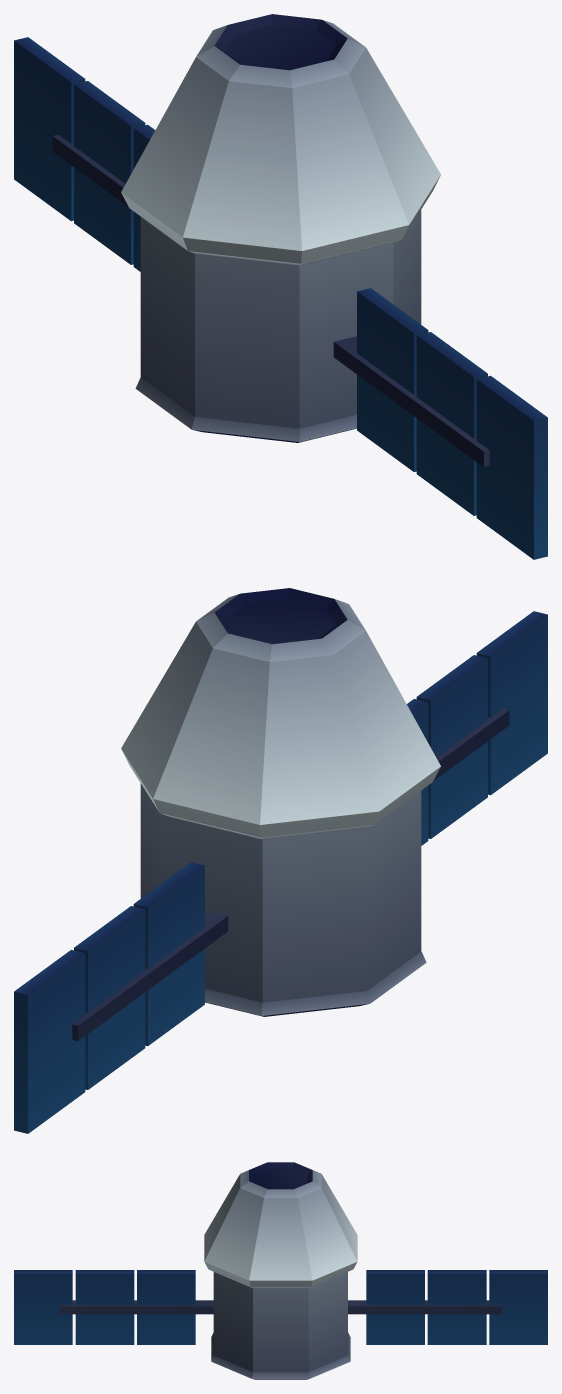
The model's file is satelite1.fbx.
3 views of the same model, one above another, from view 1: azimuth 30°, elevation 25°; view 2: azimuth 150°, elevation 25°; view 3: azimuth 270°, elevation 25° (orthographic). The views are drawn at different scales.
Parts seen in each view (by area): view 1: Cylinder, Cube.007, Cube.003, Cube.008, Cube.006, Cube.001, Cube.005, Cube.004, Cube.002; view 2: Cylinder, Cube.003, Cube.007, Cube.001, Cube.002, Cube.008, Cube.004, Cube.005, Cube.006; view 3: Cylinder, Cube.003, Cube.007, Cube.001, Cube.008, Cube.002, Cube.006, Cube.005, Cube.004.
Boxes of the visible parts, x1=… form: Cylinder: x1=121, y1=14, x2=440, y2=442; Cube.007: x1=476, y1=375, x2=547, y2=559; Cube.003: x1=14, y1=37, x2=85, y2=221; Cube.008: x1=416, y1=332, x2=487, y2=515; Cube.006: x1=357, y1=288, x2=428, y2=471; Cube.001: x1=74, y1=81, x2=145, y2=264; Cube.005: x1=333, y1=336, x2=489, y2=466; Cube.004: x1=52, y1=134, x2=128, y2=206; Cube.002: x1=133, y1=124, x2=155, y2=271; Cylinder: x1=121, y1=588, x2=440, y2=1016; Cube.003: x1=14, y1=950, x2=85, y2=1133; Cube.007: x1=476, y1=611, x2=547, y2=795; Cube.001: x1=74, y1=906, x2=145, y2=1089; Cube.002: x1=133, y1=862, x2=204, y2=1046; Cube.008: x1=416, y1=655, x2=487, y2=838; Cube.004: x1=72, y1=910, x2=228, y2=1040; Cube.005: x1=433, y1=708, x2=509, y2=780; Cube.006: x1=407, y1=699, x2=428, y2=845; Cylinder: x1=204, y1=1162, x2=357, y2=1379; Cube.003: x1=489, y1=1270, x2=547, y2=1344; Cube.007: x1=14, y1=1270, x2=72, y2=1344; Cube.001: x1=427, y1=1270, x2=486, y2=1344; Cube.008: x1=75, y1=1270, x2=134, y2=1344; Cube.002: x1=366, y1=1270, x2=424, y2=1344; Cube.006: x1=137, y1=1270, x2=195, y2=1344; Cube.005: x1=59, y1=1300, x2=213, y2=1314; Cube.004: x1=348, y1=1300, x2=502, y2=1314.
Bounding box in the file's own units: 73.33 × 94.1 × 256.
